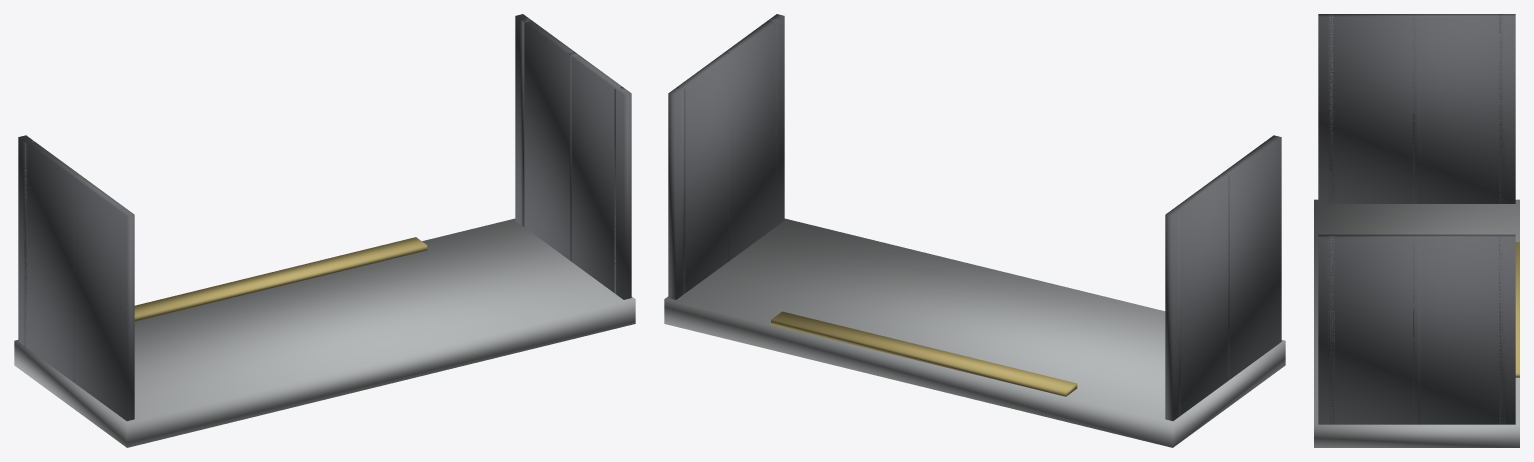
Rendered from floor_w260_d100_sides.glb.
The picture shows the model from 3 angles, left to right: view 1: azimuth 30°, elevation 25°; view 2: azimuth 150°, elevation 25°; view 3: azimuth 270°, elevation 25°; orthographic projection. The views are drawn at different scales.
Visible parts, largest first — view 1: world; view 2: world; view 3: world.
Part boxes in pixels (x1=…): world: x1=14, y1=14, x2=635, y2=447; world: x1=664, y1=14, x2=1285, y2=447; world: x1=1314, y1=14, x2=1519, y2=447.
Size of the model in its own units: 2.6 by 1.12 by 1.
